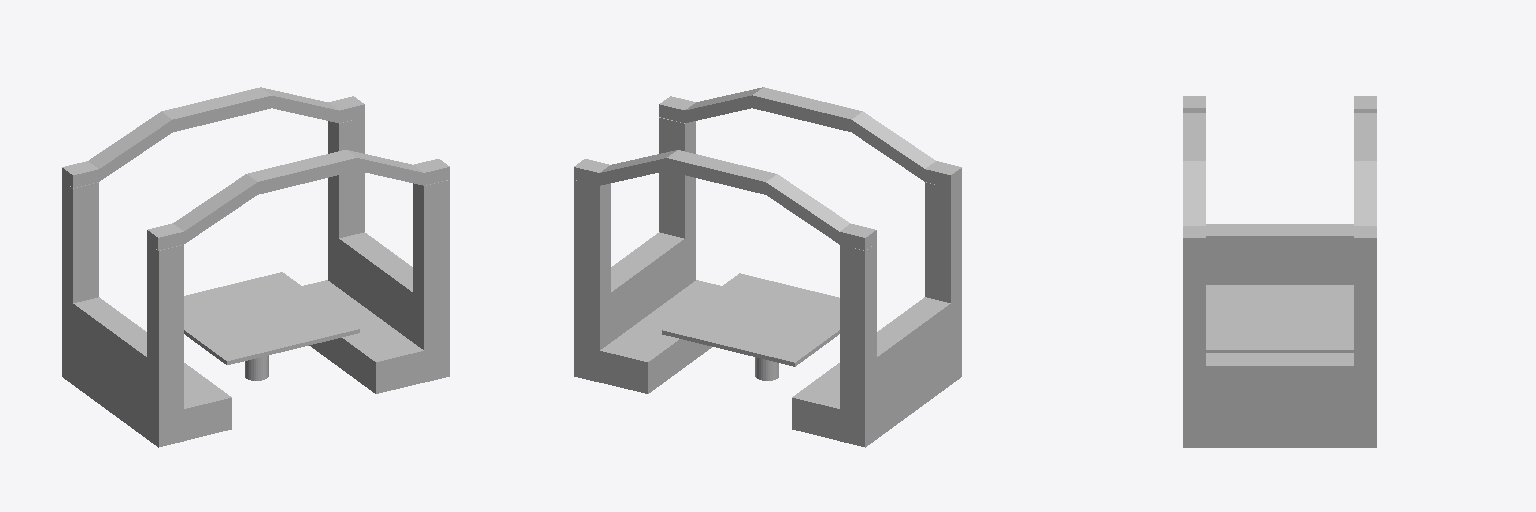
The model's file is booth.obj.
3 views of the same model, side by side, from view 1: azimuth 30°, elevation 25°; view 2: azimuth 150°, elevation 25°; view 3: azimuth 270°, elevation 25° (orthographic).
Visible parts, largest first — view 1: Plane; view 2: Plane; view 3: Plane.
Boxes of the visible parts, <box> form: Plane: <box>62,87,449,447</box>; Plane: <box>574,87,961,447</box>; Plane: <box>1183,96,1376,447</box>.
Size of the model in its own units: 1007 by 796 by 578.